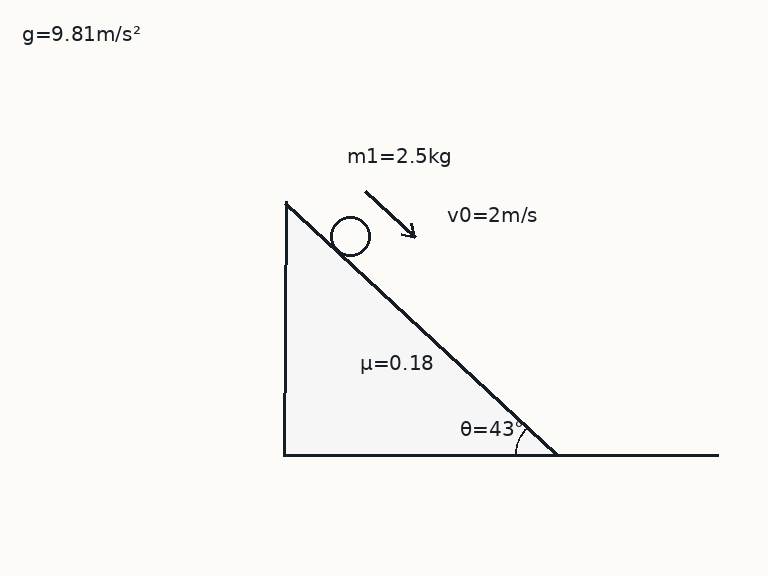ball: (328, 214, 372, 258)
ramp: (283, 201, 558, 457)
